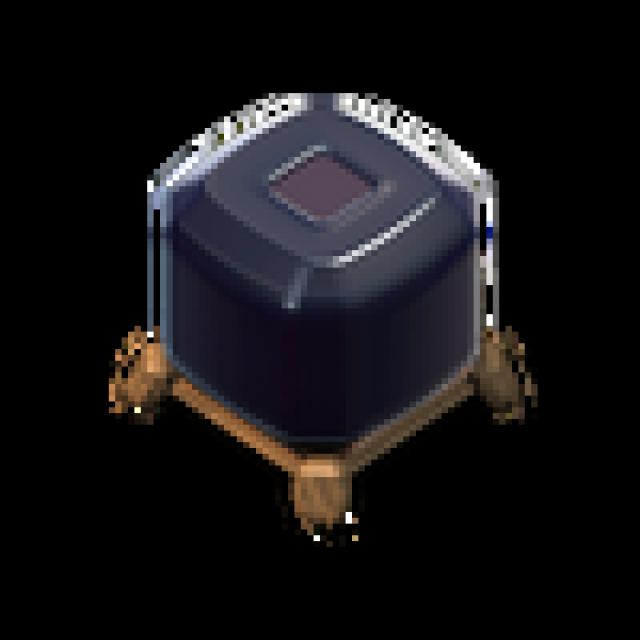dark_elixir_storage: (110, 81, 557, 547)
